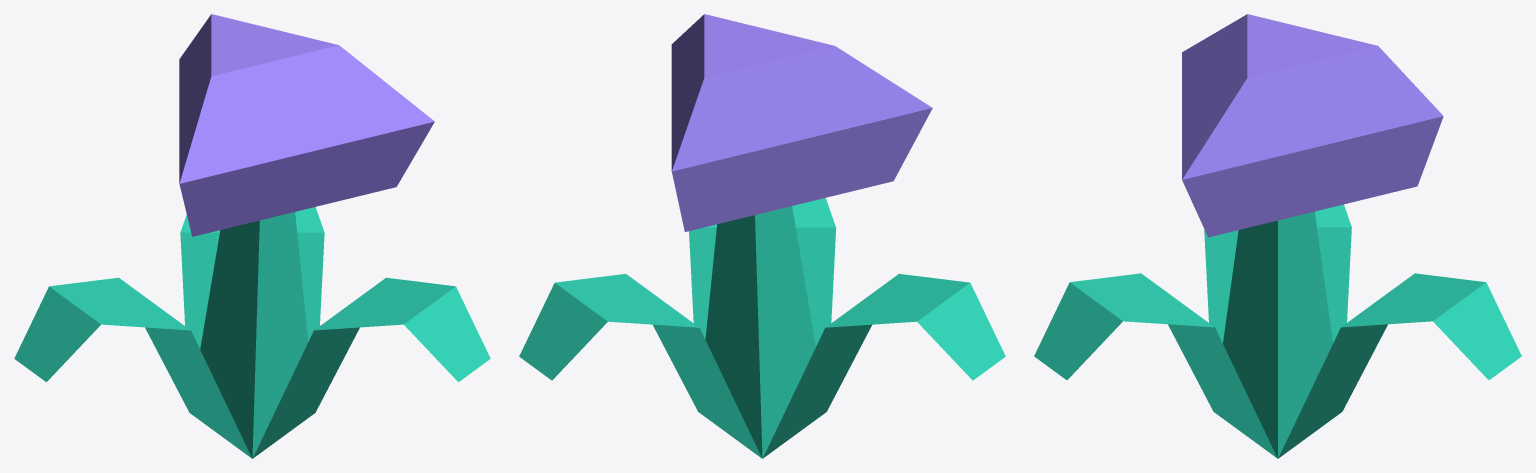
The model's file is flower_purpleB.dae.
3 views of the same model, side by side, from view 1: azimuth 30°, elevation 25°; view 2: azimuth 150°, elevation 25°; view 3: azimuth 270°, elevation 25° (orthographic). The views are drawn at different scales.
Parts seen in each view (by area): view 1: flower_purpleB; view 2: flower_purpleB; view 3: flower_purpleB.
Boxes of the visible parts, x1,y1,x2,y2 form: flower_purpleB: (14, 14, 490, 458); flower_purpleB: (519, 14, 1005, 458); flower_purpleB: (1034, 14, 1521, 458).
Size of the model in its own units: 0.2073 by 0.2085 by 0.2392.
